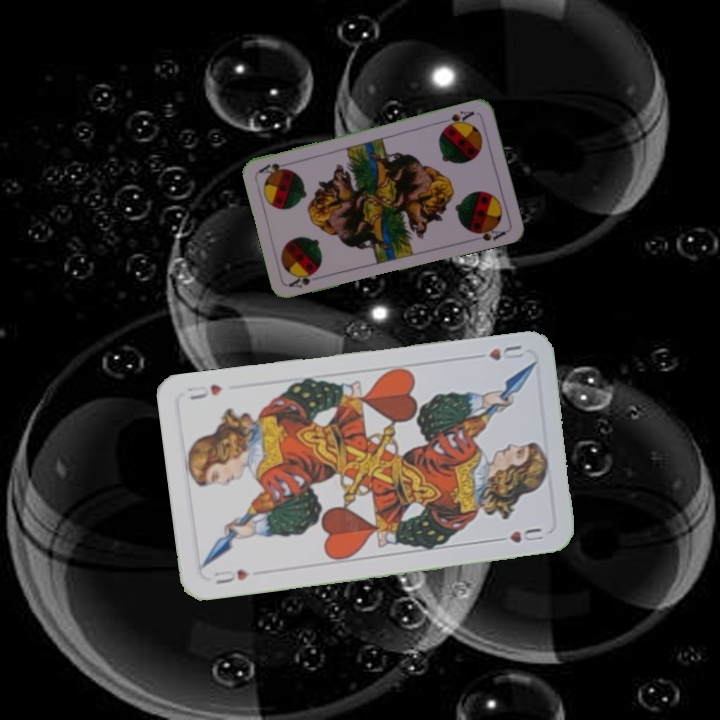HU: (210, 565, 253, 587), (484, 341, 526, 363)
SA: (438, 107, 477, 131), (285, 268, 319, 291)
